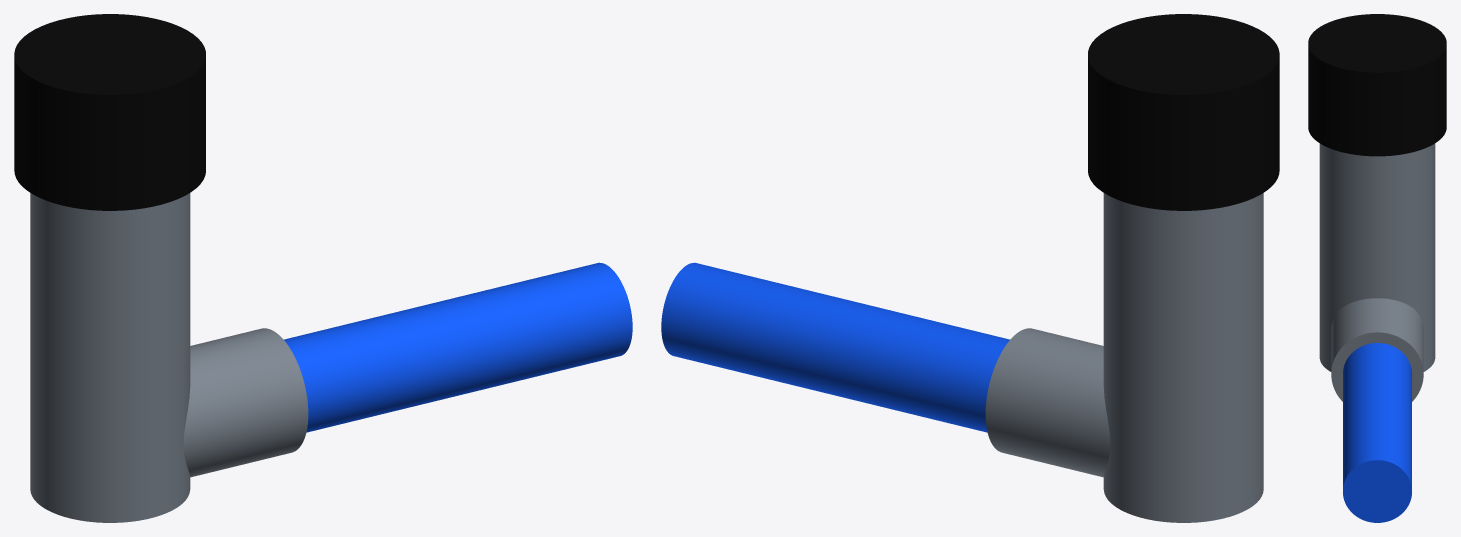
Rendered from speed_controller.glb.
3 renders of one model, left to right at view 1: azimuth 30°, elevation 25°; view 2: azimuth 150°, elevation 25°; view 3: azimuth 270°, elevation 25°, orthographic. The views are drawn at different scales.
Visible parts, largest first — view 1: speed_ctl; view 2: speed_ctl; view 3: speed_ctl.
Part boxes in pixels (left/top/right/bottom): speed_ctl: left=14, top=14, right=632, bottom=522; speed_ctl: left=661, top=14, right=1279, bottom=522; speed_ctl: left=1308, top=14, right=1446, bottom=522.
Size of the model in its own units: 0.042 by 0.03 by 0.012.
